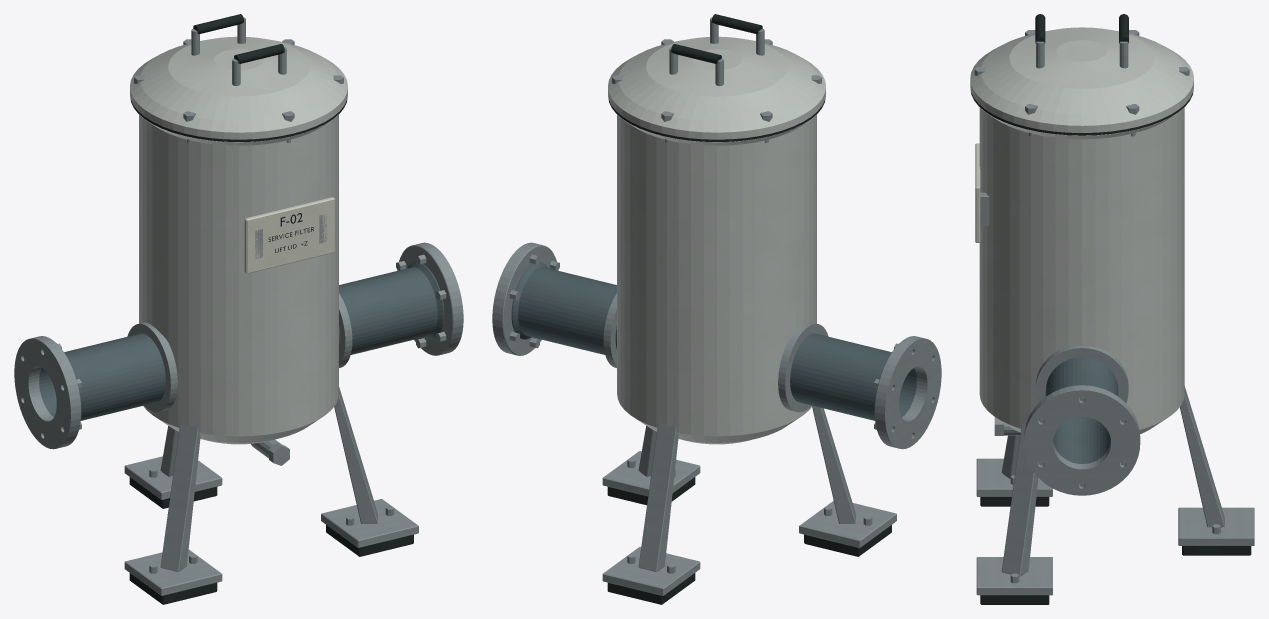
Rendered from AST-ENG-002.glb.
3 views of the same model, side by side, from view 1: azimuth 30°, elevation 25°; view 2: azimuth 150°, elevation 25°; view 3: azimuth 270°, elevation 25° (orthographic). The views are drawn at different scales.
Parts seen in each view (by area): view 1: AST-ENG-002__static__staff_white_paint, AST-ENG-002__static__staff_zinc, AST-ENG-002__service_lid__staff_white_paint, AST-ENG-002__static__staff_bluegrey_paint, AST-ENG-002__static__staff_label, AST-ENG-002__static__staff_rubber, AST-ENG-002__service_lid__staff_zinc, AST-ENG-002__service_lid__staff_rubber; view 2: AST-ENG-002__static__staff_white_paint, AST-ENG-002__static__staff_zinc, AST-ENG-002__service_lid__staff_white_paint, AST-ENG-002__static__staff_bluegrey_paint, AST-ENG-002__static__staff_rubber, AST-ENG-002__service_lid__staff_zinc, AST-ENG-002__service_lid__staff_rubber; view 3: AST-ENG-002__static__staff_white_paint, AST-ENG-002__static__staff_zinc, AST-ENG-002__service_lid__staff_white_paint, AST-ENG-002__static__staff_bluegrey_paint, AST-ENG-002__static__staff_rubber, AST-ENG-002__service_lid__staff_zinc, AST-ENG-002__service_lid__staff_rubber, AST-ENG-002__static__staff_label.
Boxes of the visible parts, bbox=[...] form: AST-ENG-002__static__staff_white_paint: bbox=[130, 95, 347, 444]; AST-ENG-002__static__staff_zinc: bbox=[14, 214, 463, 595]; AST-ENG-002__service_lid__staff_white_paint: bbox=[130, 36, 347, 139]; AST-ENG-002__static__staff_bluegrey_paint: bbox=[39, 262, 444, 420]; AST-ENG-002__static__staff_label: bbox=[244, 197, 334, 273]; AST-ENG-002__static__staff_rubber: bbox=[129, 100, 413, 604]; AST-ENG-002__service_lid__staff_zinc: bbox=[134, 17, 343, 142]; AST-ENG-002__service_lid__staff_rubber: bbox=[193, 14, 284, 63]; AST-ENG-002__static__staff_white_paint: bbox=[608, 95, 825, 444]; AST-ENG-002__static__staff_zinc: bbox=[492, 242, 941, 595]; AST-ENG-002__service_lid__staff_white_paint: bbox=[608, 36, 825, 139]; AST-ENG-002__static__staff_bluegrey_paint: bbox=[511, 262, 916, 420]; AST-ENG-002__static__staff_rubber: bbox=[607, 100, 891, 604]; AST-ENG-002__service_lid__staff_zinc: bbox=[612, 17, 821, 142]; AST-ENG-002__service_lid__staff_rubber: bbox=[671, 14, 762, 63]; AST-ENG-002__static__staff_white_paint: bbox=[970, 88, 1193, 434]; AST-ENG-002__static__staff_zinc: bbox=[976, 192, 1254, 595]; AST-ENG-002__service_lid__staff_white_paint: bbox=[970, 27, 1193, 132]; AST-ENG-002__static__staff_bluegrey_paint: bbox=[1045, 357, 1118, 463]; AST-ENG-002__static__staff_rubber: bbox=[971, 92, 1251, 604]; AST-ENG-002__service_lid__staff_zinc: bbox=[974, 30, 1189, 136]; AST-ENG-002__service_lid__staff_rubber: bbox=[1035, 14, 1128, 43]; AST-ENG-002__static__staff_label: bbox=[975, 143, 980, 242].
Size of the model in its own units: 1.28 by 1.57 by 0.783.
Materials: 5 (5 with a texture image).
